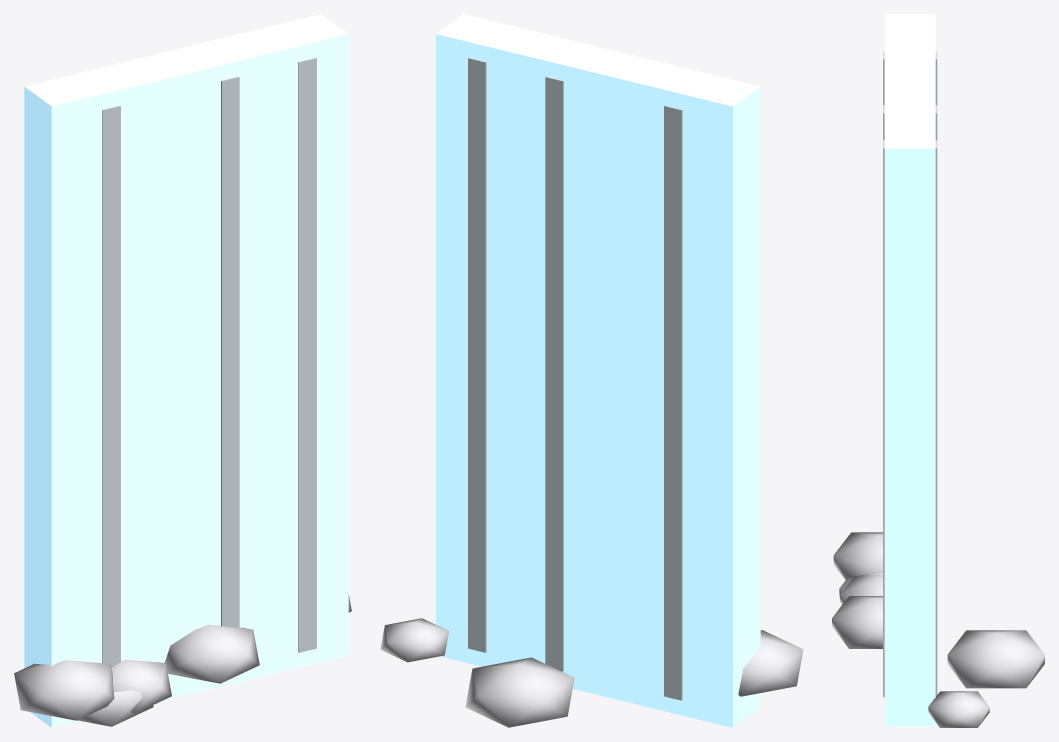
File: Deco_Waterfall.fbx
3 renders of one model, left to right at view 1: azimuth 30°, elevation 25°; view 2: azimuth 150°, elevation 25°; view 3: azimuth 270°, elevation 25°, orthographic. The views are drawn at different scales.
Parts seen in each view (by area): view 1: Deco_Waterfall_Main, Deco_Waterfall; view 2: Deco_Waterfall_Main, Deco_Waterfall; view 3: Deco_Waterfall_Main, Deco_Waterfall.
Part boxes in pixels (left/top/right/bottom): Deco_Waterfall_Main: left=24, top=14, right=348, bottom=727; Deco_Waterfall: left=14, top=57, right=351, bottom=726; Deco_Waterfall_Main: left=436, top=14, right=760, bottom=727; Deco_Waterfall: left=380, top=57, right=803, bottom=727; Deco_Waterfall_Main: left=884, top=14, right=935, bottom=726; Deco_Waterfall: left=832, top=51, right=1044, bottom=727.
Bounding box in the file's own units: 0.622 × 1.02 × 0.3337.
